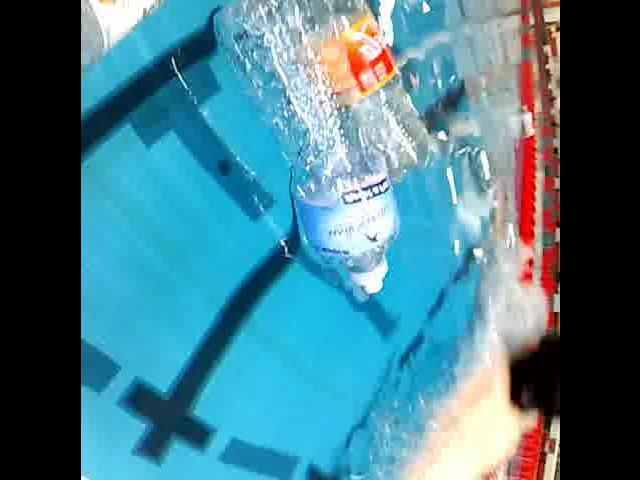Bottle: (211, 0, 407, 303), (253, 0, 437, 180), (81, 0, 232, 90)
